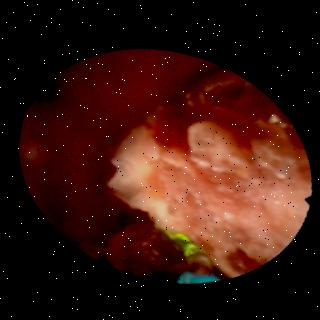laser: (159, 229, 198, 254)
stone: (104, 67, 306, 276)
